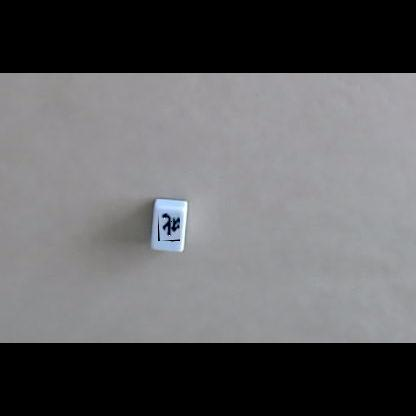4z: (158, 213, 180, 241)
